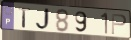1: (100, 12, 109, 35)
8: (55, 8, 70, 34)
9: (75, 11, 88, 34)
J: (35, 8, 52, 31)
P: (111, 13, 128, 36)
T: (17, 7, 32, 29)
